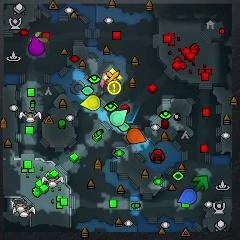Other: (103, 67, 122, 84), (107, 81, 122, 95)
p1: (178, 189, 197, 204)
p2: (110, 109, 127, 127)
p3: (28, 35, 44, 56)
p4: (79, 95, 101, 111)
p5: (127, 128, 147, 144)
x1: (100, 72, 107, 87)
x2: (29, 32, 49, 43)
x4: (193, 175, 208, 191)
